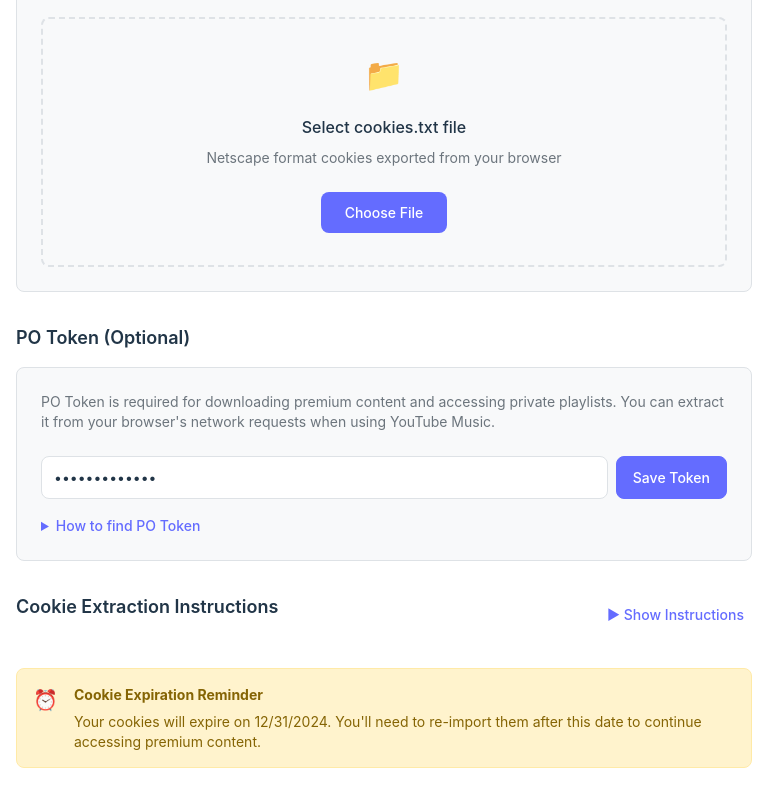
CookieManager Component › changes browser instructions when browser is selected
(page scrolled)
Step 1. Click the button "▶ Show Instructions" → (676, 614), box [599, 598, 752, 631]
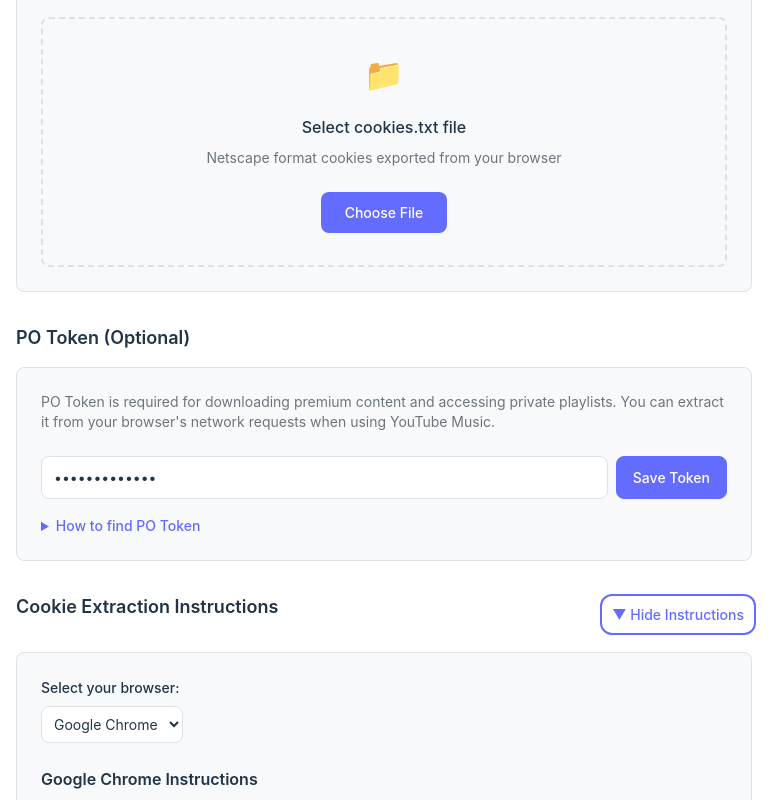
Change browser selection
Step 2. Select "Mozilla Firefox" in the dropdown showing "Google Chrome" → (112, 724), box [41, 706, 183, 743]
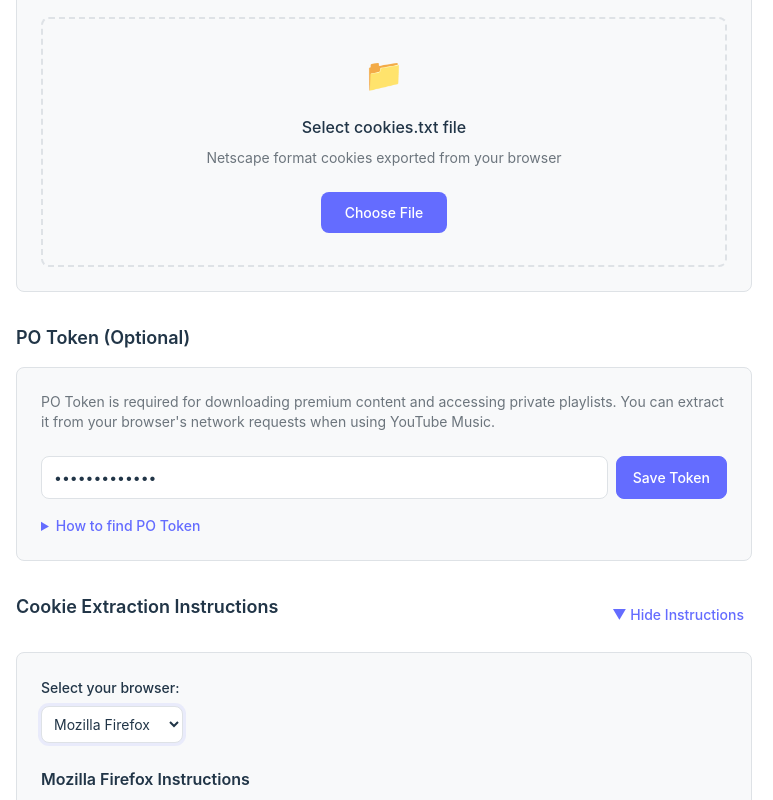
Check: the heading "Mozilla Firefox Instructions" is shown, box [41, 769, 250, 789]
